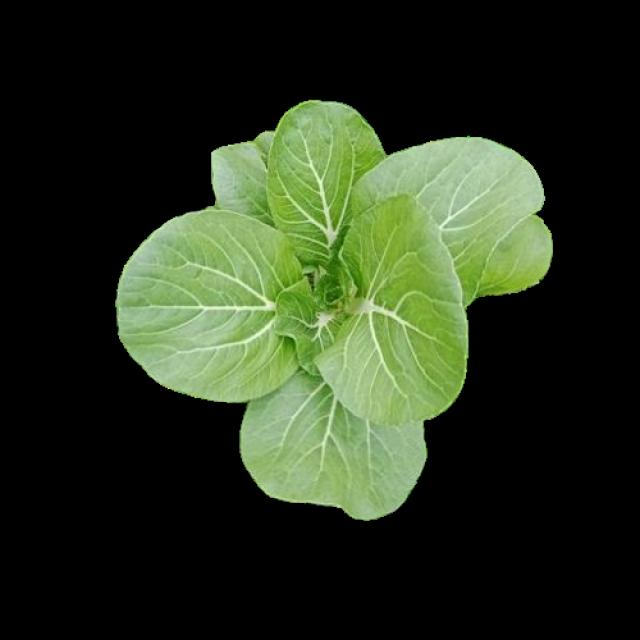healthy: (118, 98, 549, 514)
mature: (120, 101, 552, 517)
